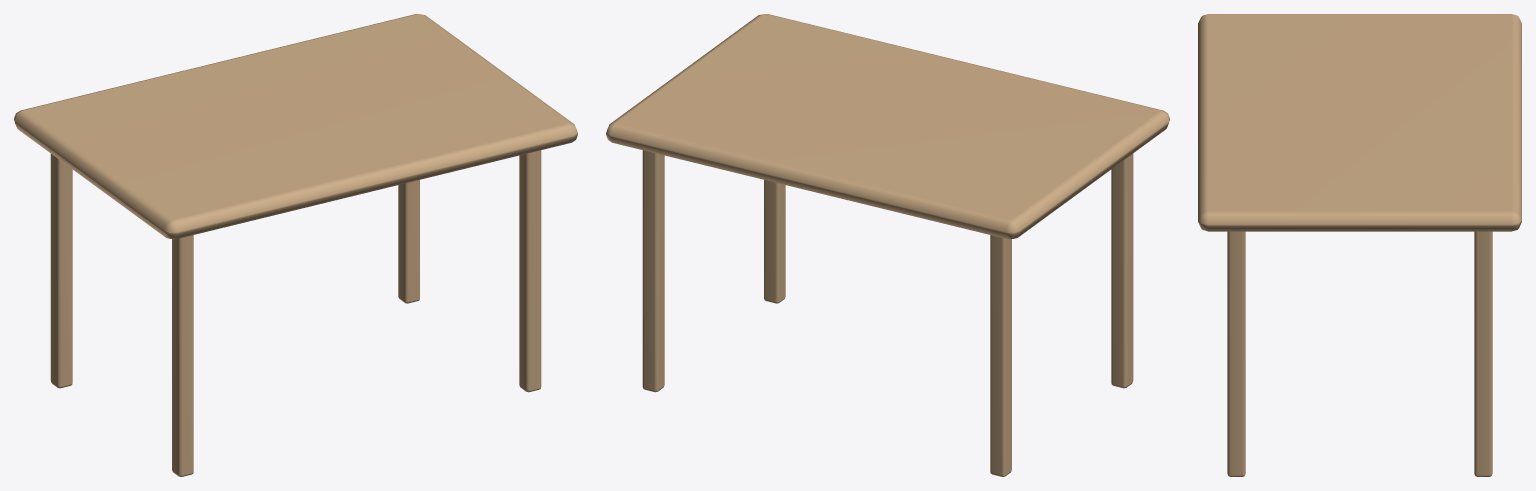
File: ikea_alhult_dining_00600766.glb
The picture shows the model from 3 angles, left to right: view 1: azimuth 30°, elevation 25°; view 2: azimuth 150°, elevation 25°; view 3: azimuth 270°, elevation 25°; orthographic projection.
Parts seen in each view (by area): view 1: table top.003, leg.054, leg.052, leg.053, leg.055; view 2: table top.003, leg.055, leg.053, leg.052, leg.054; view 3: table top.003, leg.054, leg.055.
Boxes of the visible parts, x1=… form: table top.003: x1=14, y1=14, x2=577, y2=239; leg.054: x1=519, y1=150, x2=541, y2=392; leg.052: x1=172, y1=235, x2=193, y2=476; leg.053: x1=50, y1=153, x2=72, y2=388; leg.055: x1=398, y1=180, x2=419, y2=303; table top.003: x1=606, y1=14, x2=1169, y2=239; leg.055: x1=642, y1=150, x2=664, y2=392; leg.053: x1=990, y1=235, x2=1011, y2=476; leg.052: x1=1111, y1=153, x2=1133, y2=388; leg.054: x1=764, y1=180, x2=785, y2=303; table top.003: x1=1198, y1=14, x2=1521, y2=231; leg.054: x1=1227, y1=231, x2=1245, y2=476; leg.055: x1=1474, y1=231, x2=1492, y2=476.
Size of the model in its own units: 1.2 by 0.7505 by 0.8.
